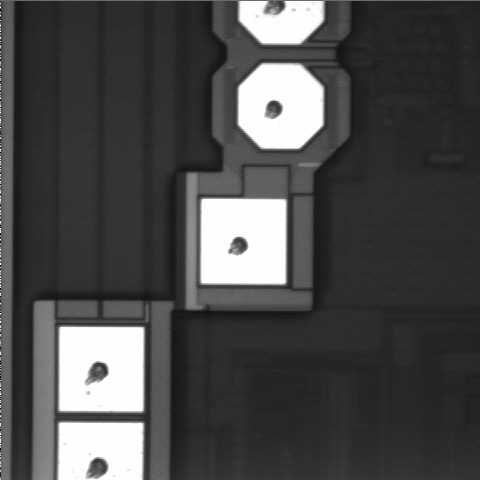pad: (238, 63, 324, 149), (200, 199, 286, 285), (59, 327, 144, 412)
